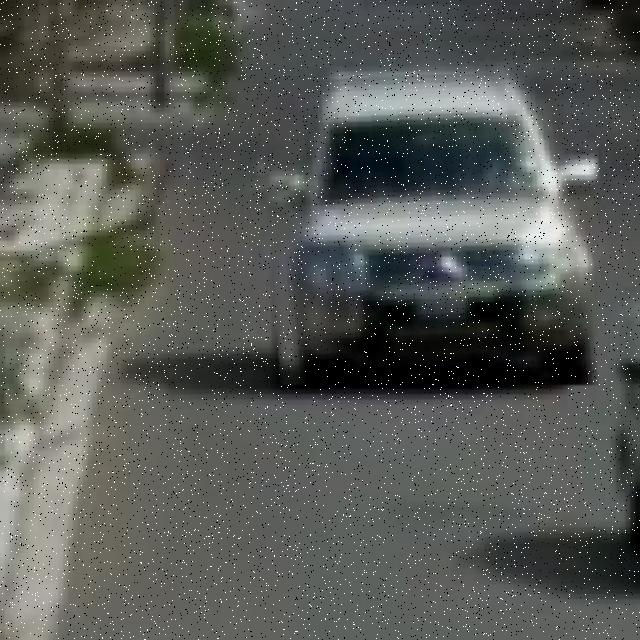car: (257, 70, 599, 386)
